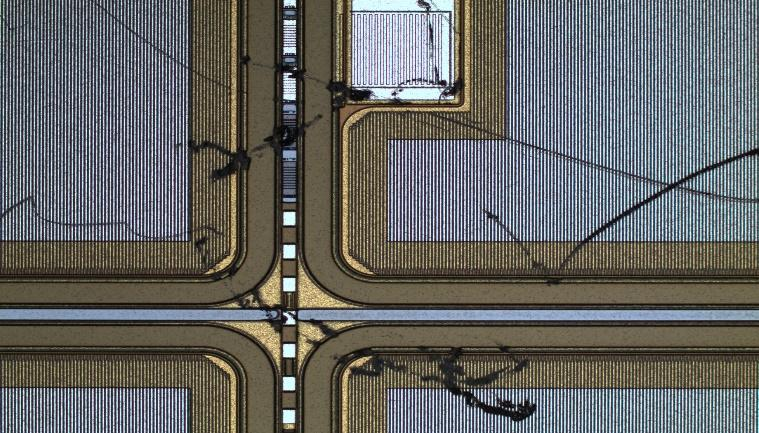SCRATCH: (1, 1, 759, 428)
